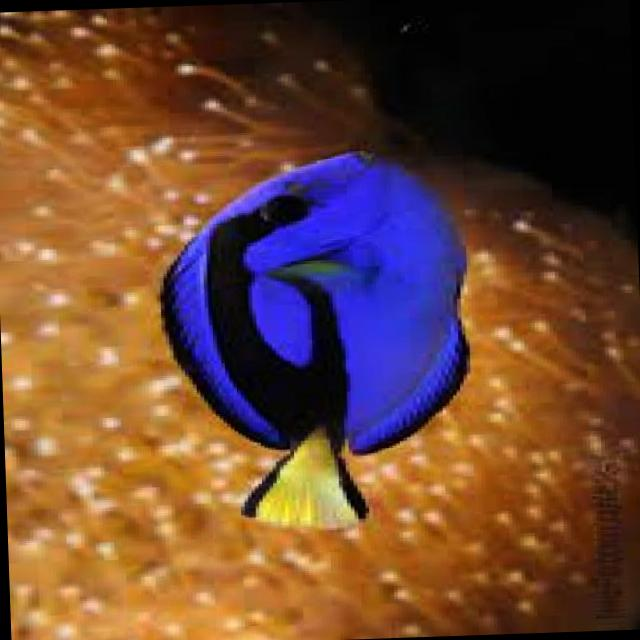BlueTang: (152, 150, 480, 524)
